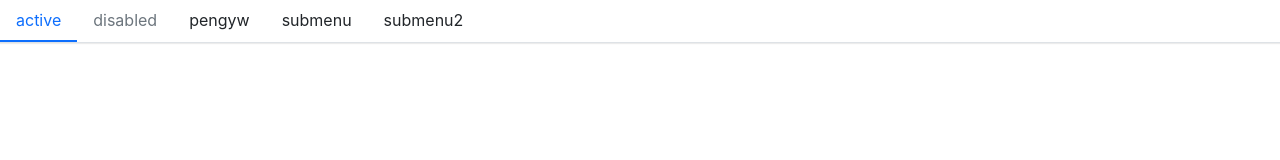
Test: test menu and menuItem component › should show dropdown items when hover on subMenu
The width and height of the screenshot is (1280, 160).
Expected: the text "submenu1" is not shown
Hover over the text "submenu": (317, 20) [282,8,352,32]
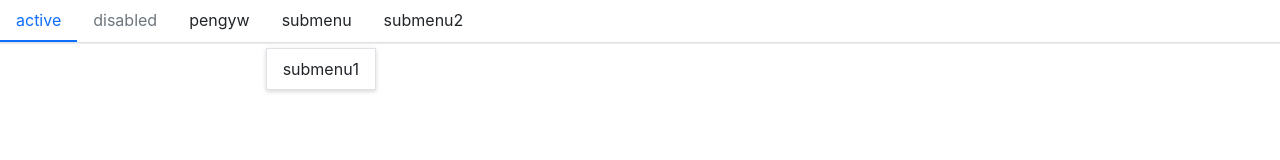
Expected: the list item "submenu1" is shown
Click the list item "submenu1": (321, 69) [283,59,359,79]
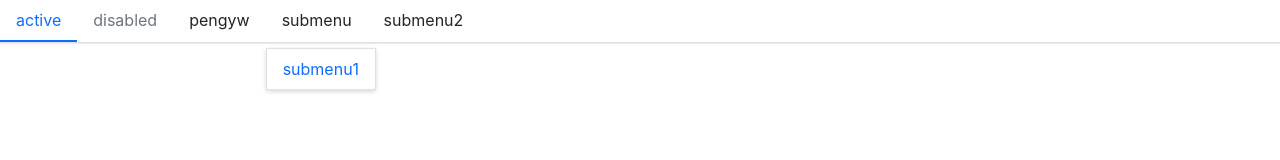
Move the pointer off the text "submenu", box [282,8,352,32]
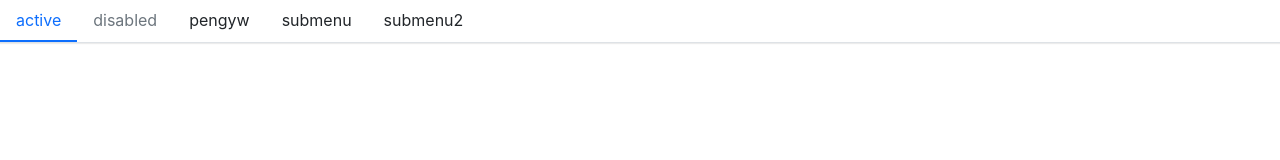
Expected: the list item "submenu1" is gone
